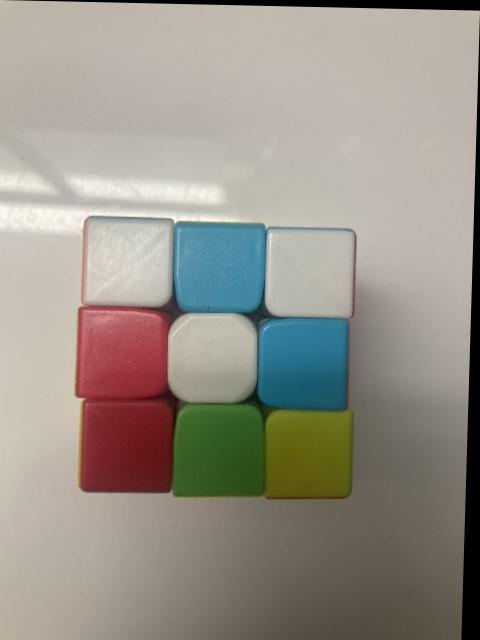Blue: (177, 223, 266, 309), (264, 320, 350, 409)
Green: (179, 407, 268, 495)
Red: (84, 402, 177, 493), (80, 312, 166, 399)
White: (268, 228, 358, 317), (87, 219, 177, 306), (173, 313, 258, 403)
Yellow: (270, 413, 356, 496)
